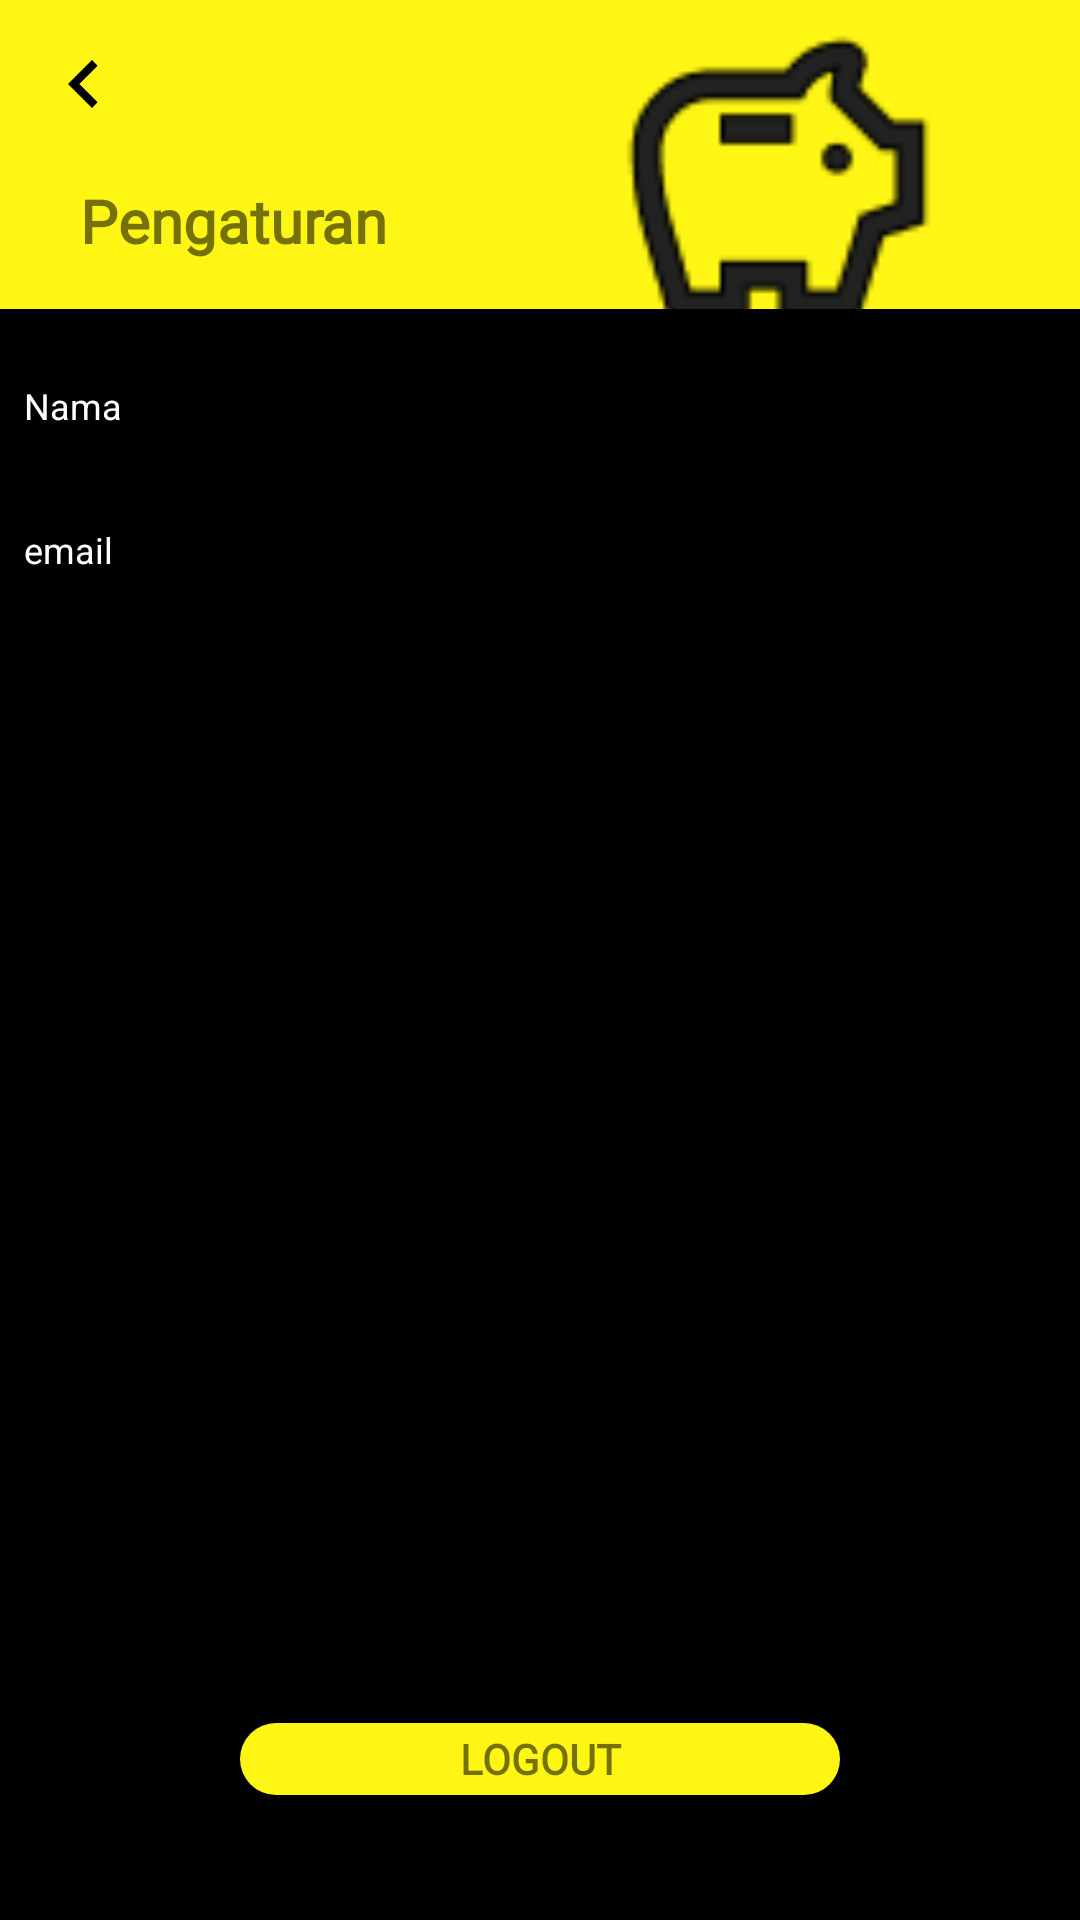

Named icons in this screenshot (1080 x 1920) and their bounding boxes, (x1, y1, x2, y2):
keyboard arrow left: (68, 60, 98, 108)
